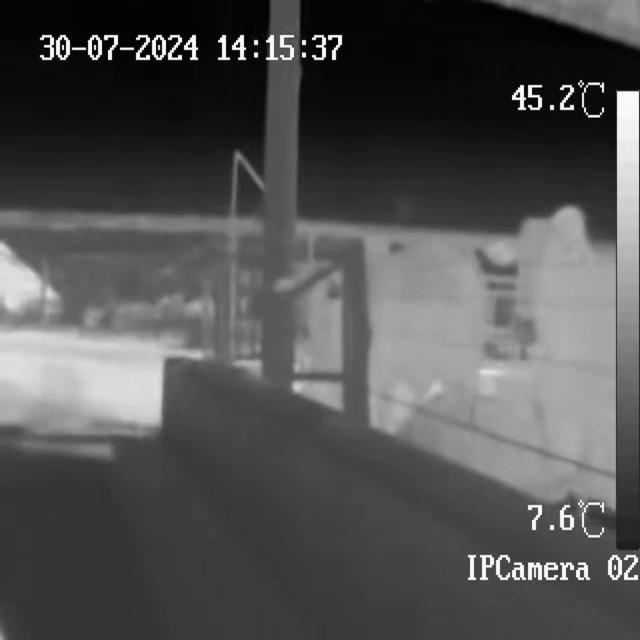head: (508, 217, 562, 345)
